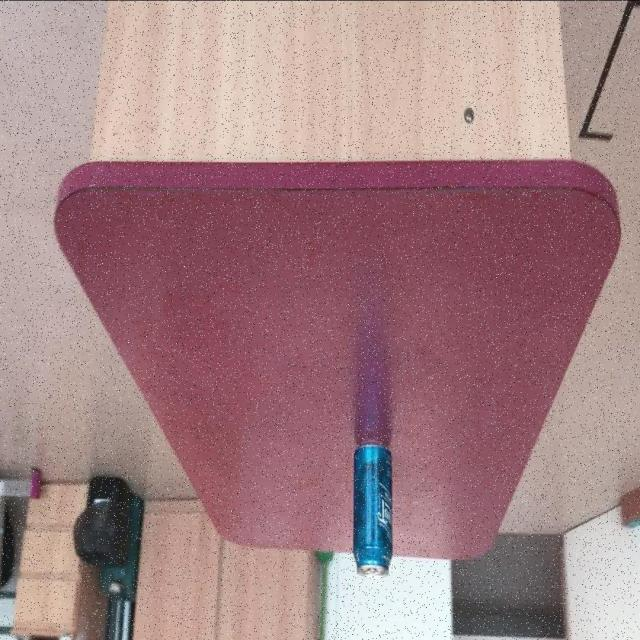Tonic: (351, 314, 393, 578), (352, 439, 393, 577)
